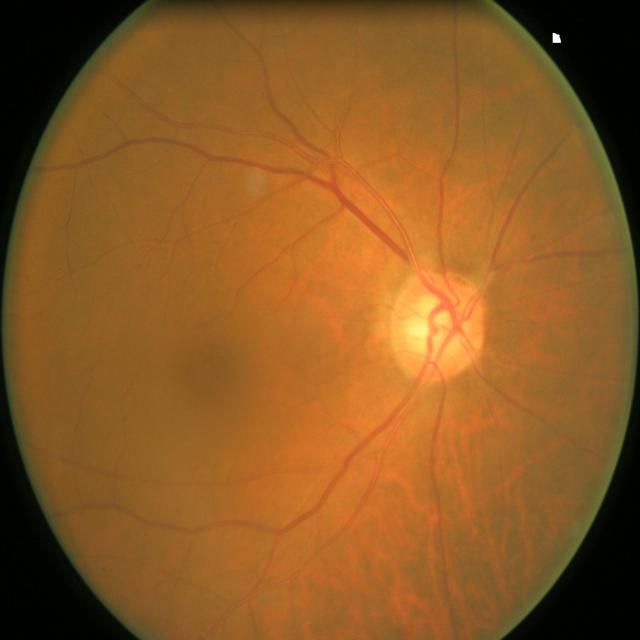OC: (405, 292, 463, 361)
OD: (389, 275, 485, 383)
